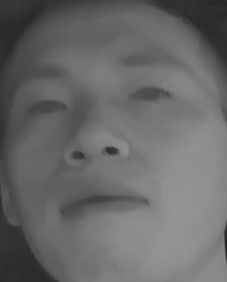eye: (121, 79, 173, 111), (21, 93, 71, 125)
mouth: (53, 177, 150, 226)
